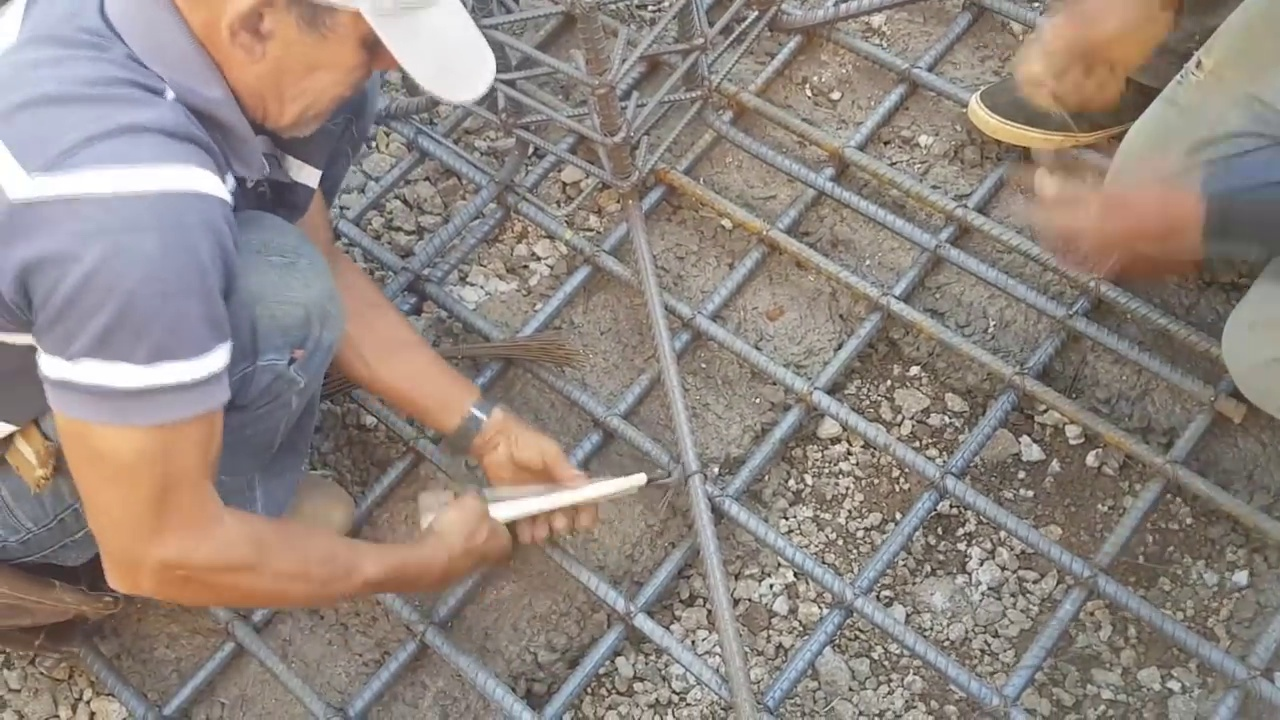helmet-off: (164, 5, 496, 141)
person: (1, 0, 595, 629), (968, 0, 1280, 420)
